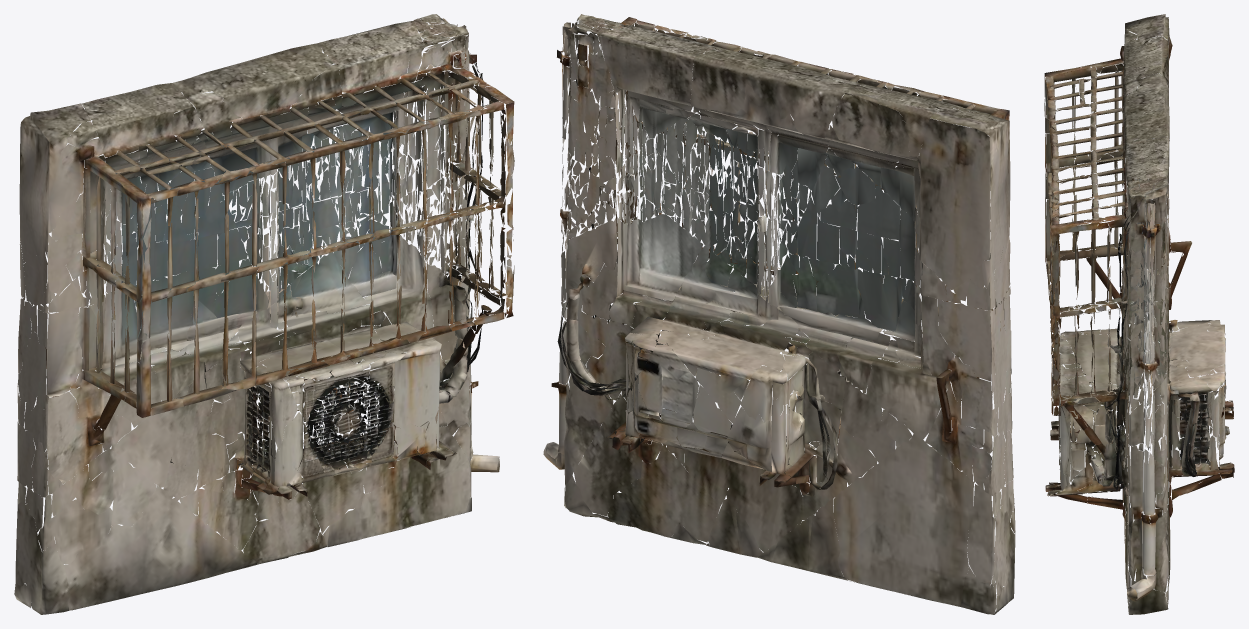
File: m_window_ac.glb
3 renders of one model, left to right at view 1: azimuth 30°, elevation 25°; view 2: azimuth 150°, elevation 25°; view 3: azimuth 270°, elevation 25°, orthographic. The views are drawn at different scales.
Parts seen in each view (by area): view 1: tripo_node_a03b9dec-3469-45e3-92c6-0f8ed439305e; view 2: tripo_node_a03b9dec-3469-45e3-92c6-0f8ed439305e; view 3: tripo_node_a03b9dec-3469-45e3-92c6-0f8ed439305e.
Part boxes in pixels (x1,y1,x2,y2): tripo_node_a03b9dec-3469-45e3-92c6-0f8ed439305e: (14, 14, 514, 614); tripo_node_a03b9dec-3469-45e3-92c6-0f8ed439305e: (543, 14, 1015, 614); tripo_node_a03b9dec-3469-45e3-92c6-0f8ed439305e: (1044, 14, 1234, 614).
Size of the model in its own units: 1.48 by 1.47 by 0.6012.
Materials: 1 (1 with a texture image).
